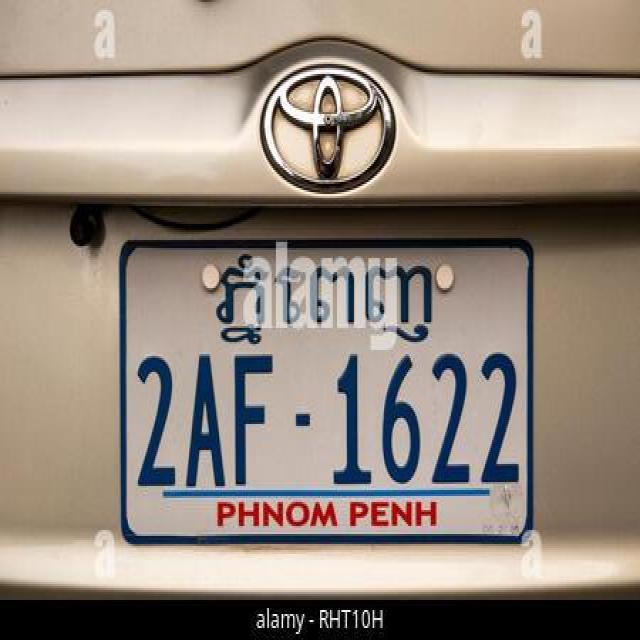Phnom_Penh: (218, 252, 437, 345)
